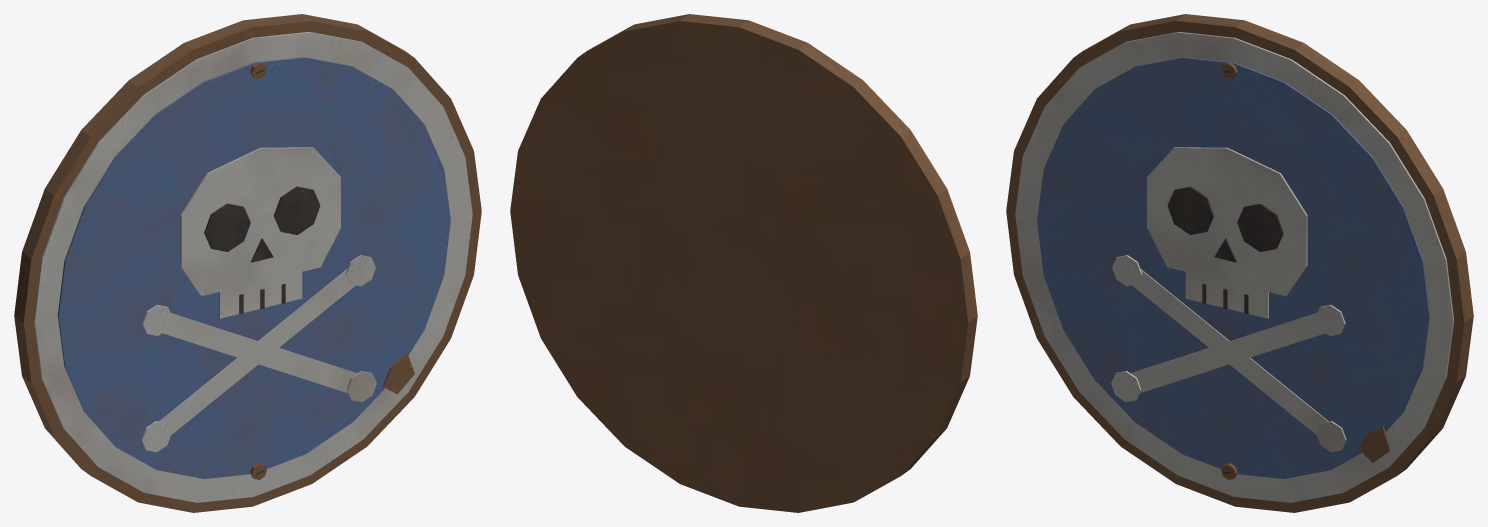
The model's file is O30_warning_signs_v3.glb.
3 renders of one model, left to right at view 1: azimuth 30°, elevation 25°; view 2: azimuth 150°, elevation 25°; view 3: azimuth 330°, elevation 25°, orthographic.
Parts seen in each view (by area): view 1: Round corroded backing; view 2: Round corroded backing; view 3: Round corroded backing.
Boxes of the visible parts, x1,y1,x2,y2 form: Round corroded backing: (14, 14, 481, 512); Round corroded backing: (510, 14, 977, 512); Round corroded backing: (1006, 14, 1473, 512).
Size of the model in its own units: 0.5 by 0.5 by 0.037.
4 materials, 4 textured.
